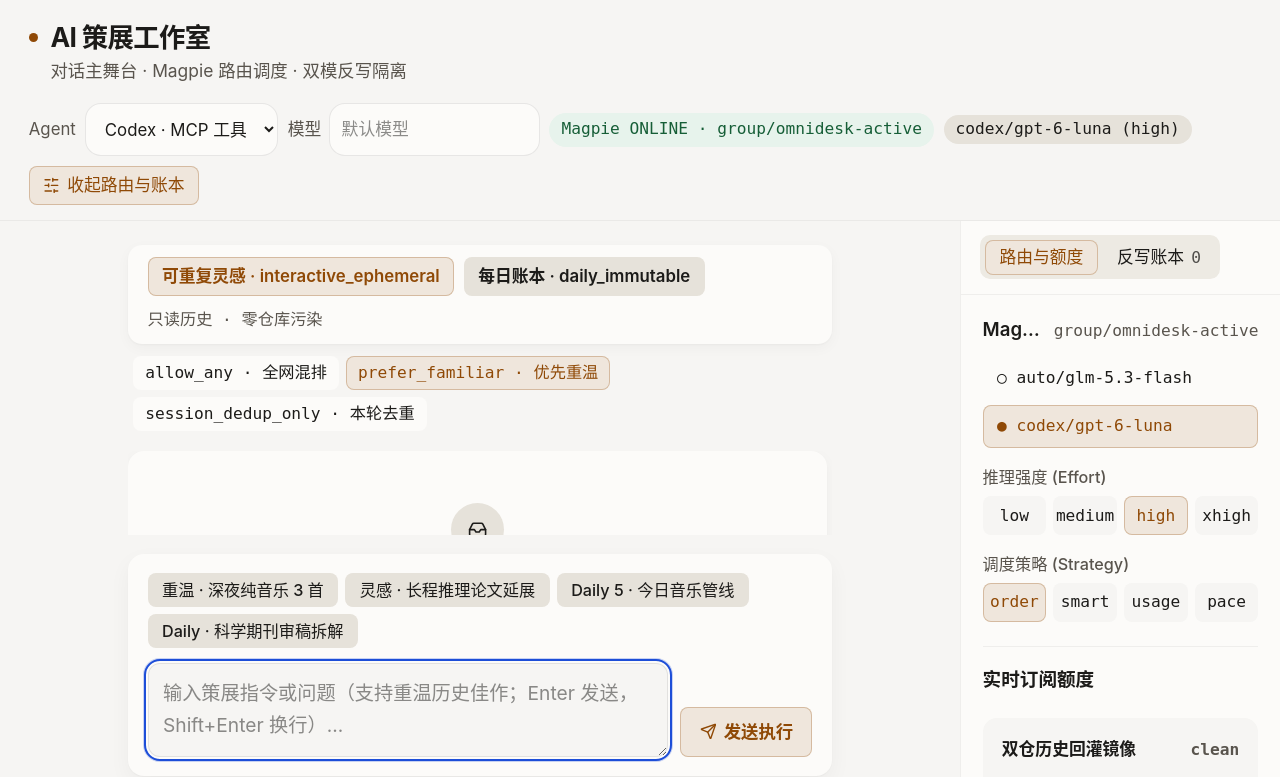
Test: AiWorkbench & CompanionDock real capability RPC › selects nested auto route without sending an unsupported effort suffix
The width and height of the screenshot is (1280, 777).
Check: the text with test id "ai-gateway-badge" shows "ONLINE", box [561,119,922,138]
Click the button "○ auto/glm-5.3-flash" at {"x": 1120, "y": 378}, box [983,356,1258,400]
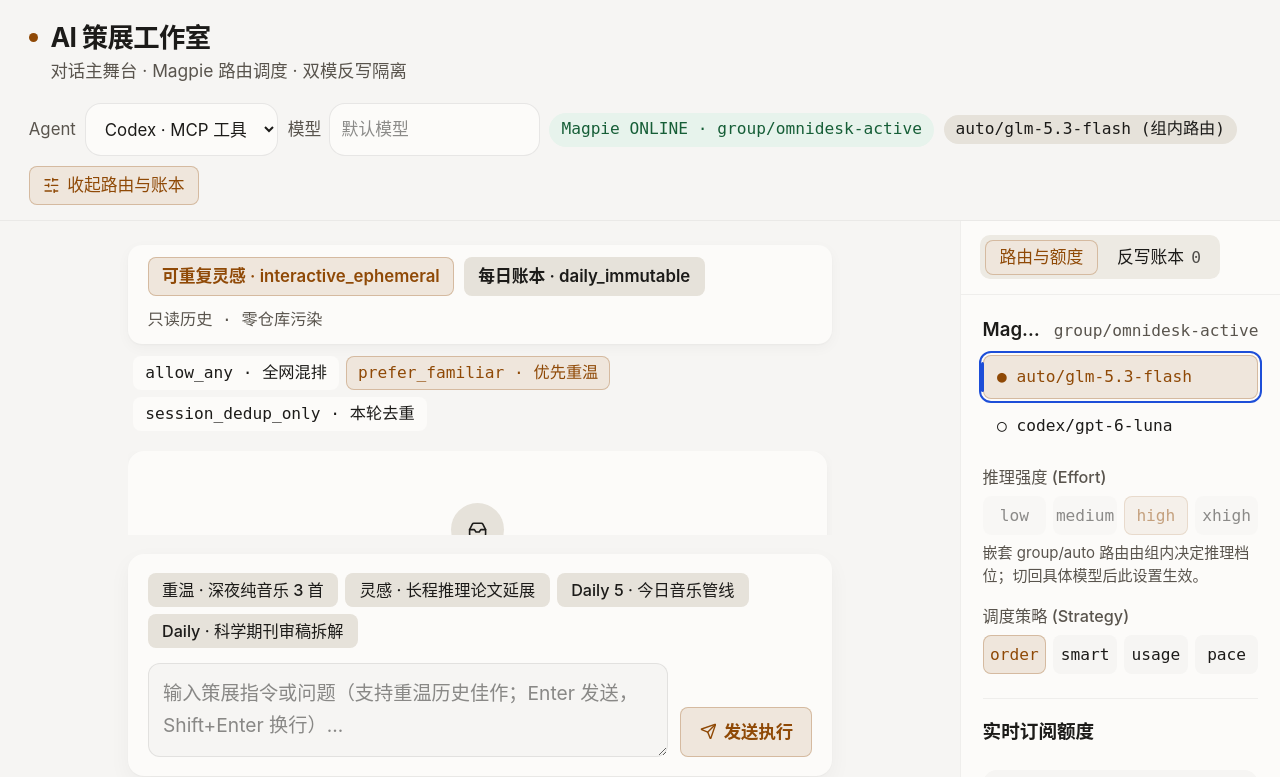
Check: the button "high" is disabled, box [1124,496,1188,535]
